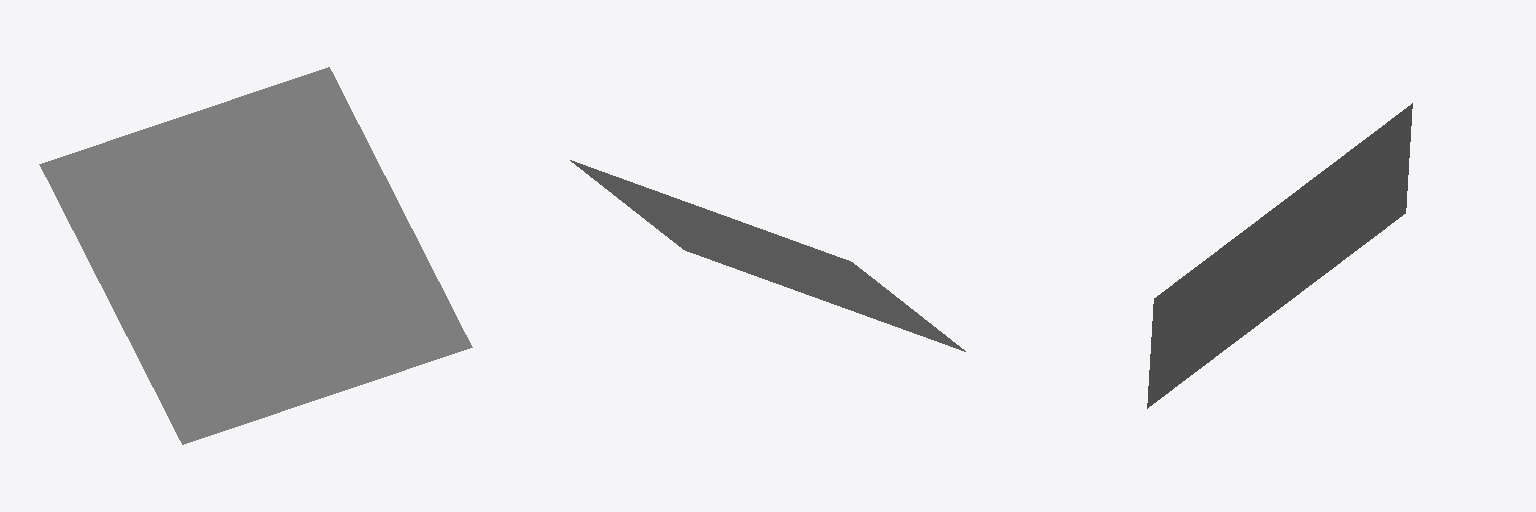
File: MirrorCentro.obj
3 renders of one model, left to right at view 1: azimuth 30°, elevation 25°; view 2: azimuth 150°, elevation 25°; view 3: azimuth 270°, elevation 25°, orthographic.
Visible parts, largest first — view 1: pPlane3; view 2: pPlane3; view 3: pPlane3.
Boxes of the visible parts, x1=… form: pPlane3: x1=39, y1=67, x2=472, y2=444; pPlane3: x1=570, y1=160, x2=965, y2=351; pPlane3: x1=1147, y1=103, x2=1412, y2=408.
Size of the model in its own units: 1.04 by 0.7261 by 0.7979.